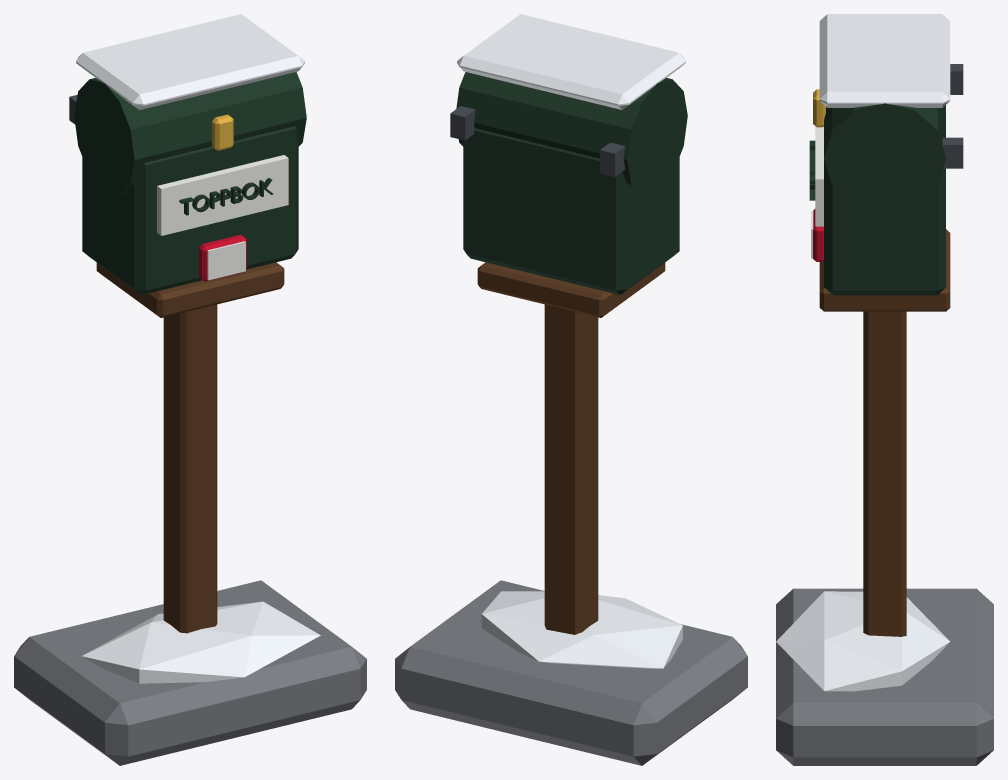
File: summit_mailbox.glb
3 renders of one model, left to right at view 1: azimuth 30°, elevation 25°; view 2: azimuth 150°, elevation 25°; view 3: azimuth 270°, elevation 25°, orthographic.
Visible parts, largest first — view 1: summit_mailbox; view 2: summit_mailbox; view 3: summit_mailbox.
Boxes of the visible parts, x1,y1,x2,y2 form: summit_mailbox: (14, 14, 366, 765); summit_mailbox: (395, 14, 747, 765); summit_mailbox: (776, 14, 993, 765).
Size of the model in its own units: 0.7 by 1.66 by 0.5.
